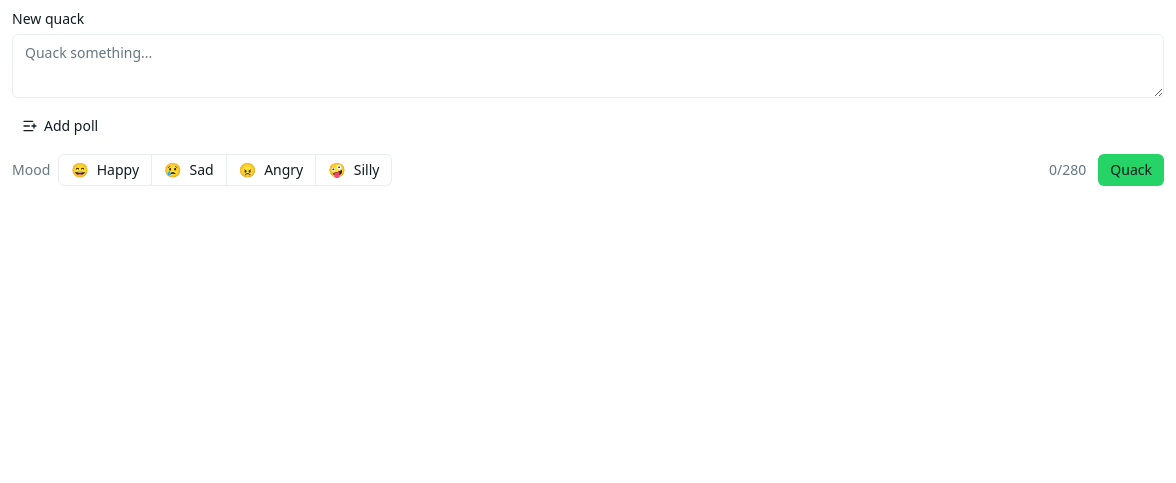
Test case: QuackForm › poll › allows up to four answers
Click the button "Add poll": (60,126) [12,110,108,142]
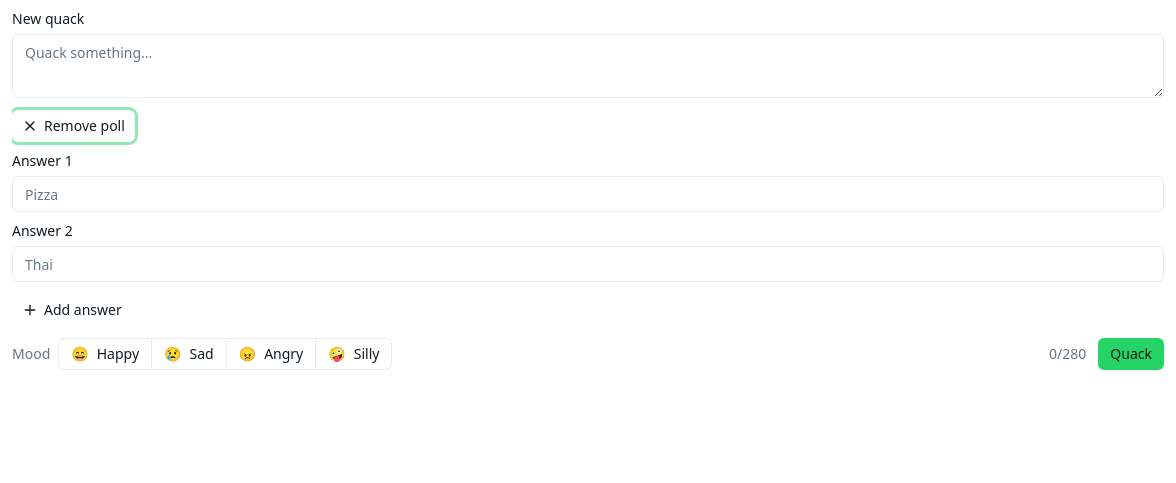
Click the button "Add answer": (72,310) [12,294,132,326]
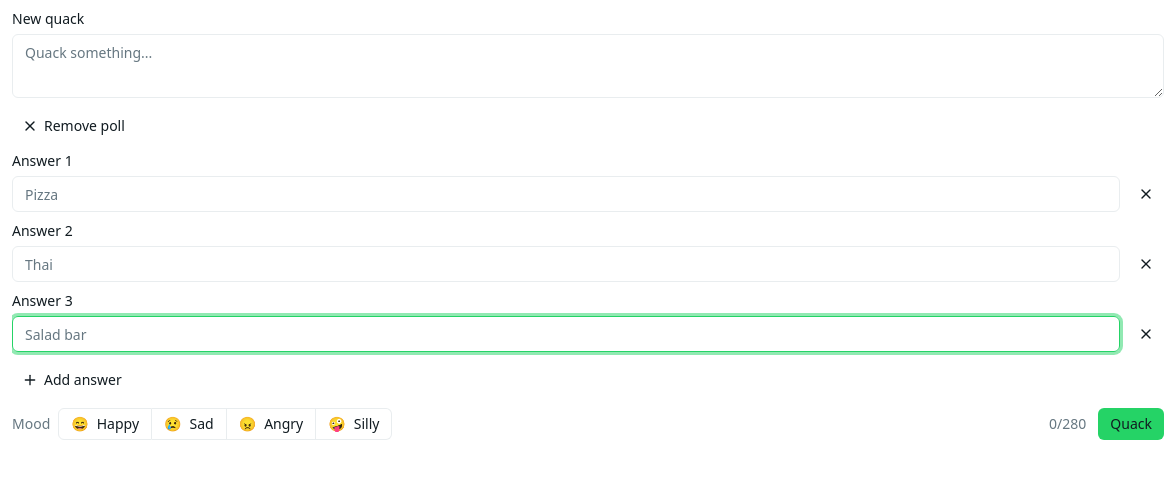
Click the button "Add answer": (72,380) [12,364,132,396]
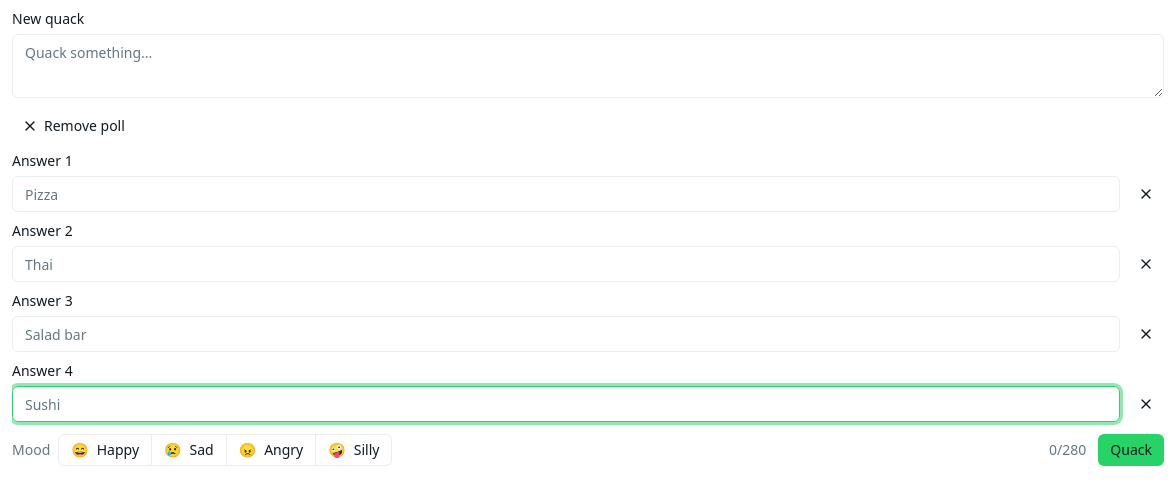
Check: the button named "Remove answer 2" is shown, box [1128,246,1164,282]
Check: the button "Add answer" is gone
